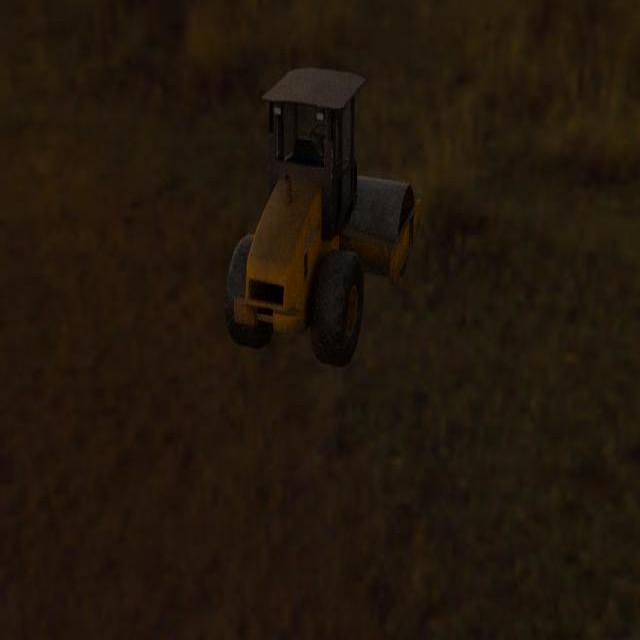Roller: (224, 68, 421, 368)
